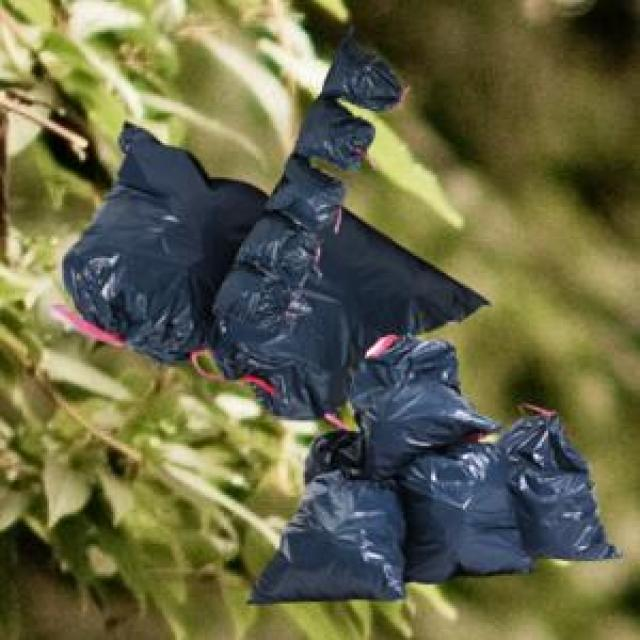Vinyl: (62, 35, 615, 603)
